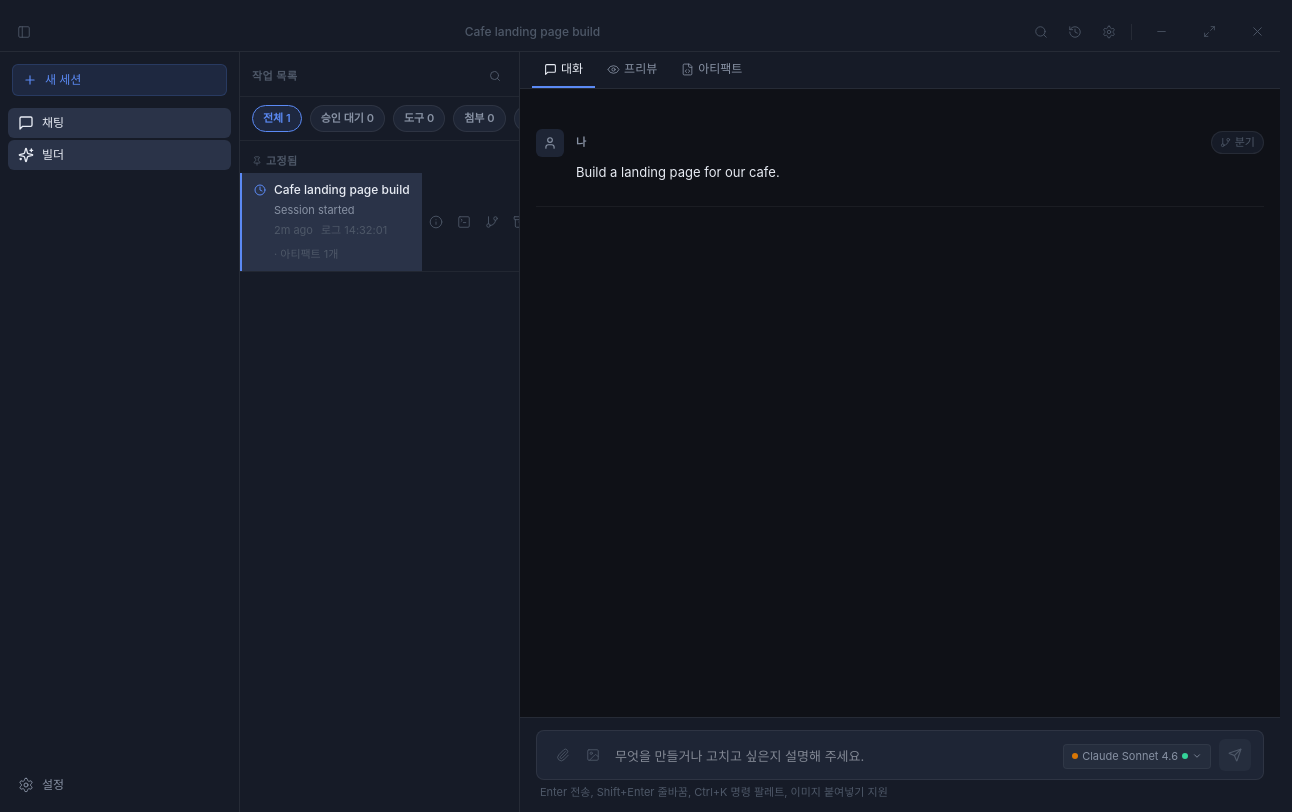
Test case: Composer chat integration › sends session context and persists main-owned shell updates from streamed chunks
The width and height of the screenshot is (1292, 812).
Check: the text "Build a landing page for our cafe." is shown, box [576,164,780,180]
In the text box: (835, 758) [615,746,1055,770], type "Summarize the integration plan."
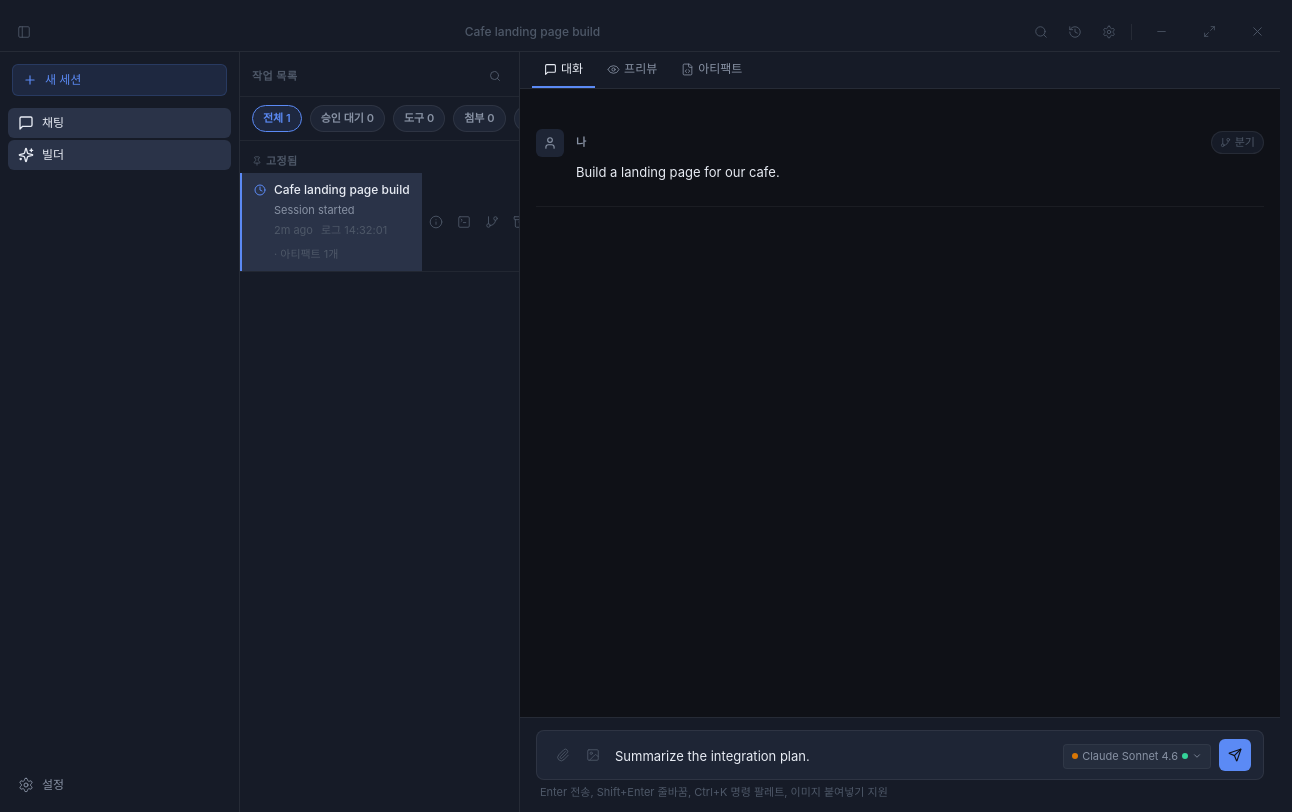
Press Enter in the text box, box [615,746,1055,770]
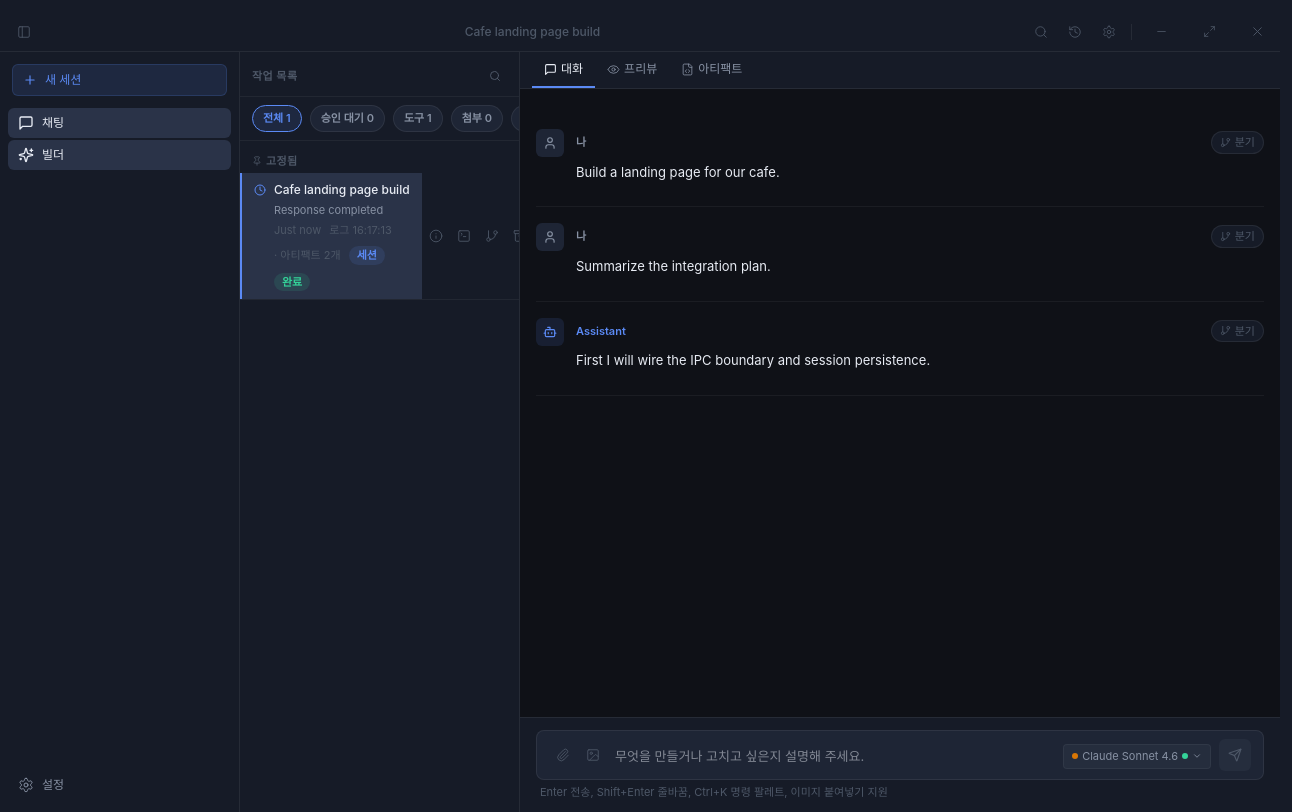
Check: the text "Summarize the integration plan." is shown, box [576,258,771,274]
Check: the text "First I will wire the IPC boundary and session persistence." is shown, box [576,352,930,368]
